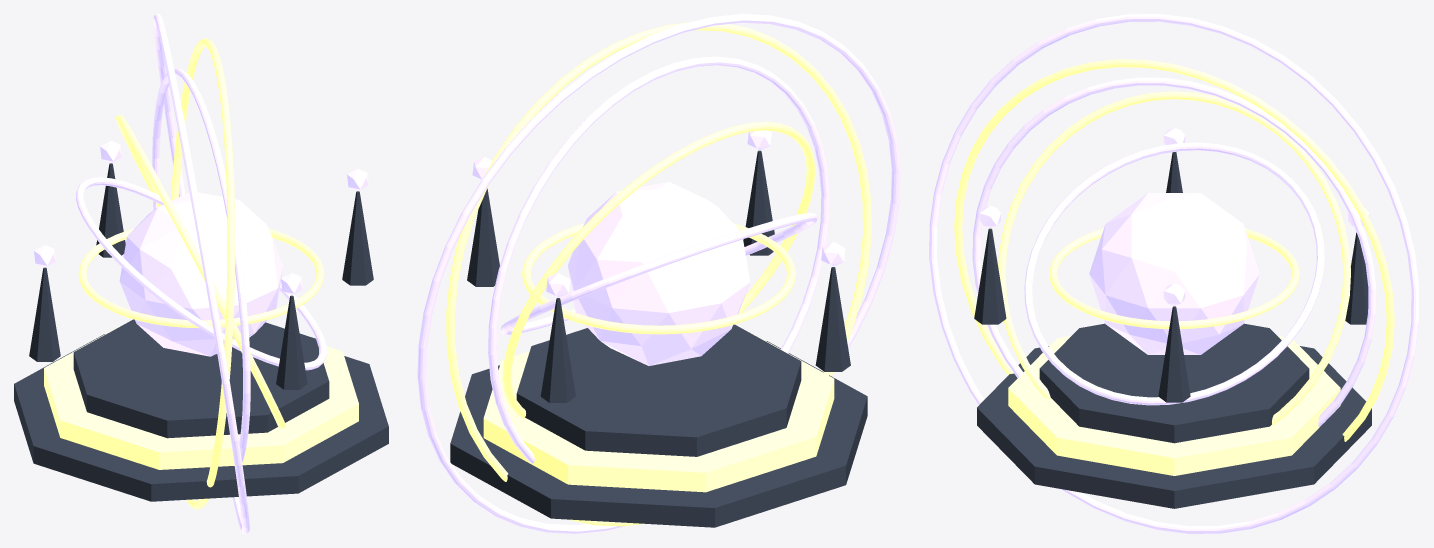
File: gpu-blender-v5.glb
3 renders of one model, left to right at view 1: azimuth 30°, elevation 25°; view 2: azimuth 150°, elevation 25°; view 3: azimuth 270°, elevation 25°, orthographic. The views are drawn at different scales.
Visible parts, largest first — view 1: Cylinder.002, Cylinder, SovereignCore_zoth-studio-v2, Cylinder.001, Torus.005, Torus.004, Torus.003, Torus.001, Torus, Torus.002, Cone, Cone.003 (+2 smaller); view 2: Cylinder.002, SovereignCore_zoth-studio-v2, Cylinder, Cylinder.001, Torus.005, Torus.004, Torus.003, Torus.002, Torus, Torus.001, Cone.002, Cone.001 (+2 smaller); view 3: SovereignCore_zoth-studio-v2, Cylinder.002, Cylinder, Cylinder.001, Torus.005, Torus.004, Torus.001, Torus.002, Torus.003, Torus, Cone, Cone.003 (+1 smaller).
Part boxes in pixels (box(x1,y1,x2,y2)): Cylinder.002: box(73, 319, 329, 438); Cylinder: box(14, 334, 388, 501); SovereignCore_zoth-studio-v2: box(119, 192, 283, 356); Cylinder.001: box(44, 326, 358, 469); Torus.005: box(153, 14, 249, 533); Torus.004: box(171, 38, 235, 509); Torus.003: box(152, 68, 250, 461); Torus.001: box(76, 177, 326, 370); Torus: box(78, 228, 324, 328); Torus.002: box(116, 115, 285, 428); Cone: box(342, 191, 373, 285); Cone.003: box(276, 295, 307, 389); Cylinder.002: box(516, 324, 801, 456); SovereignCore_zoth-studio-v2: box(568, 182, 749, 365); Cylinder: box(450, 341, 867, 527); Cylinder.001: box(483, 332, 834, 492); Torus.005: box(417, 14, 900, 533); Torus.004: box(446, 22, 871, 526); Torus.003: box(488, 56, 829, 463); Torus.002: box(502, 121, 815, 418); Torus: box(522, 223, 795, 334); Torus.001: box(500, 213, 817, 334); Cone.002: box(815, 267, 850, 371); Cone.001: box(540, 298, 575, 402); SovereignCore_zoth-studio-v2: box(1089, 193, 1259, 354); Cylinder.002: box(1039, 323, 1309, 443); Cylinder: box(977, 346, 1371, 508); Cylinder.001: box(1008, 336, 1340, 475); Torus.005: box(929, 14, 1419, 533); Torus.004: box(954, 59, 1394, 441); Torus.001: box(1024, 142, 1324, 405); Torus.002: box(998, 91, 1350, 425); Torus.003: box(972, 77, 1376, 426); Torus: box(1049, 228, 1299, 328); Cone: box(1158, 306, 1190, 402); Cone.003: box(974, 228, 1006, 324).
Size of the model in its own units: 4.41 by 5.93 by 5.46.
